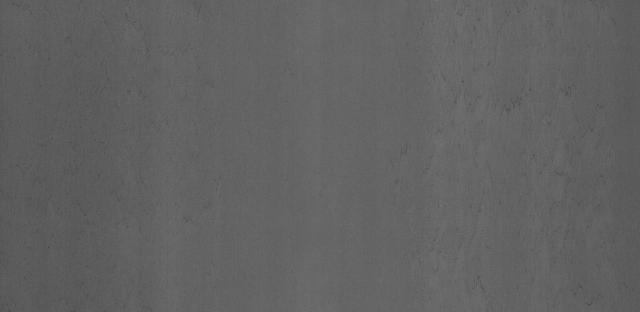silk_spot: (451, 76, 631, 221)
